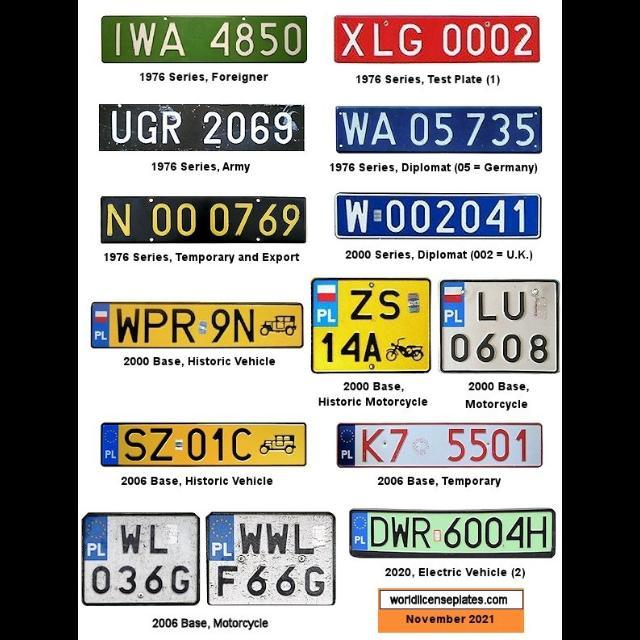license-plates: (442, 281, 558, 372), (91, 303, 303, 349), (100, 424, 306, 467)
